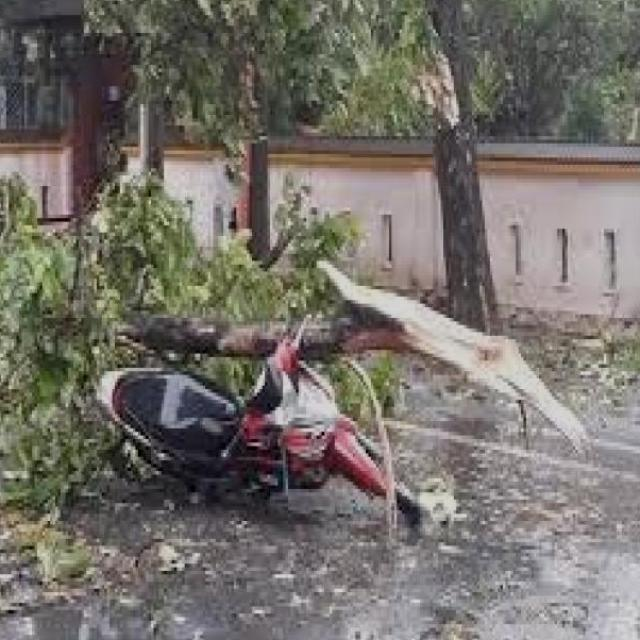fallen_object: (32, 189, 562, 412)
